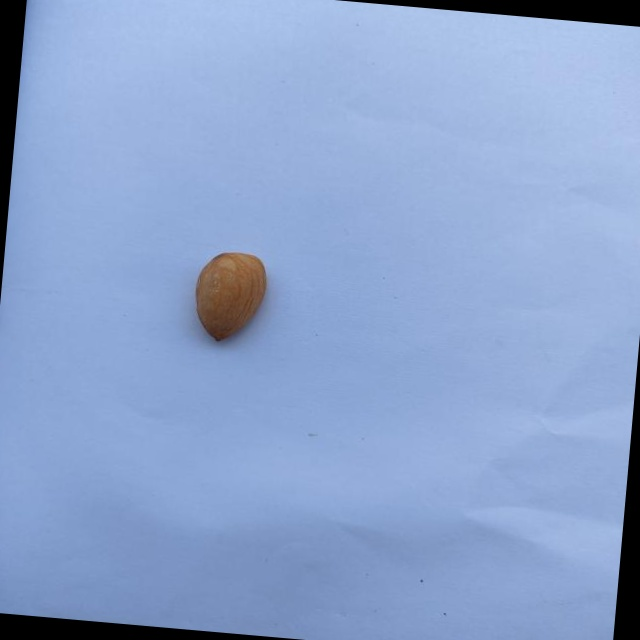grade2: (188, 246, 276, 349)
